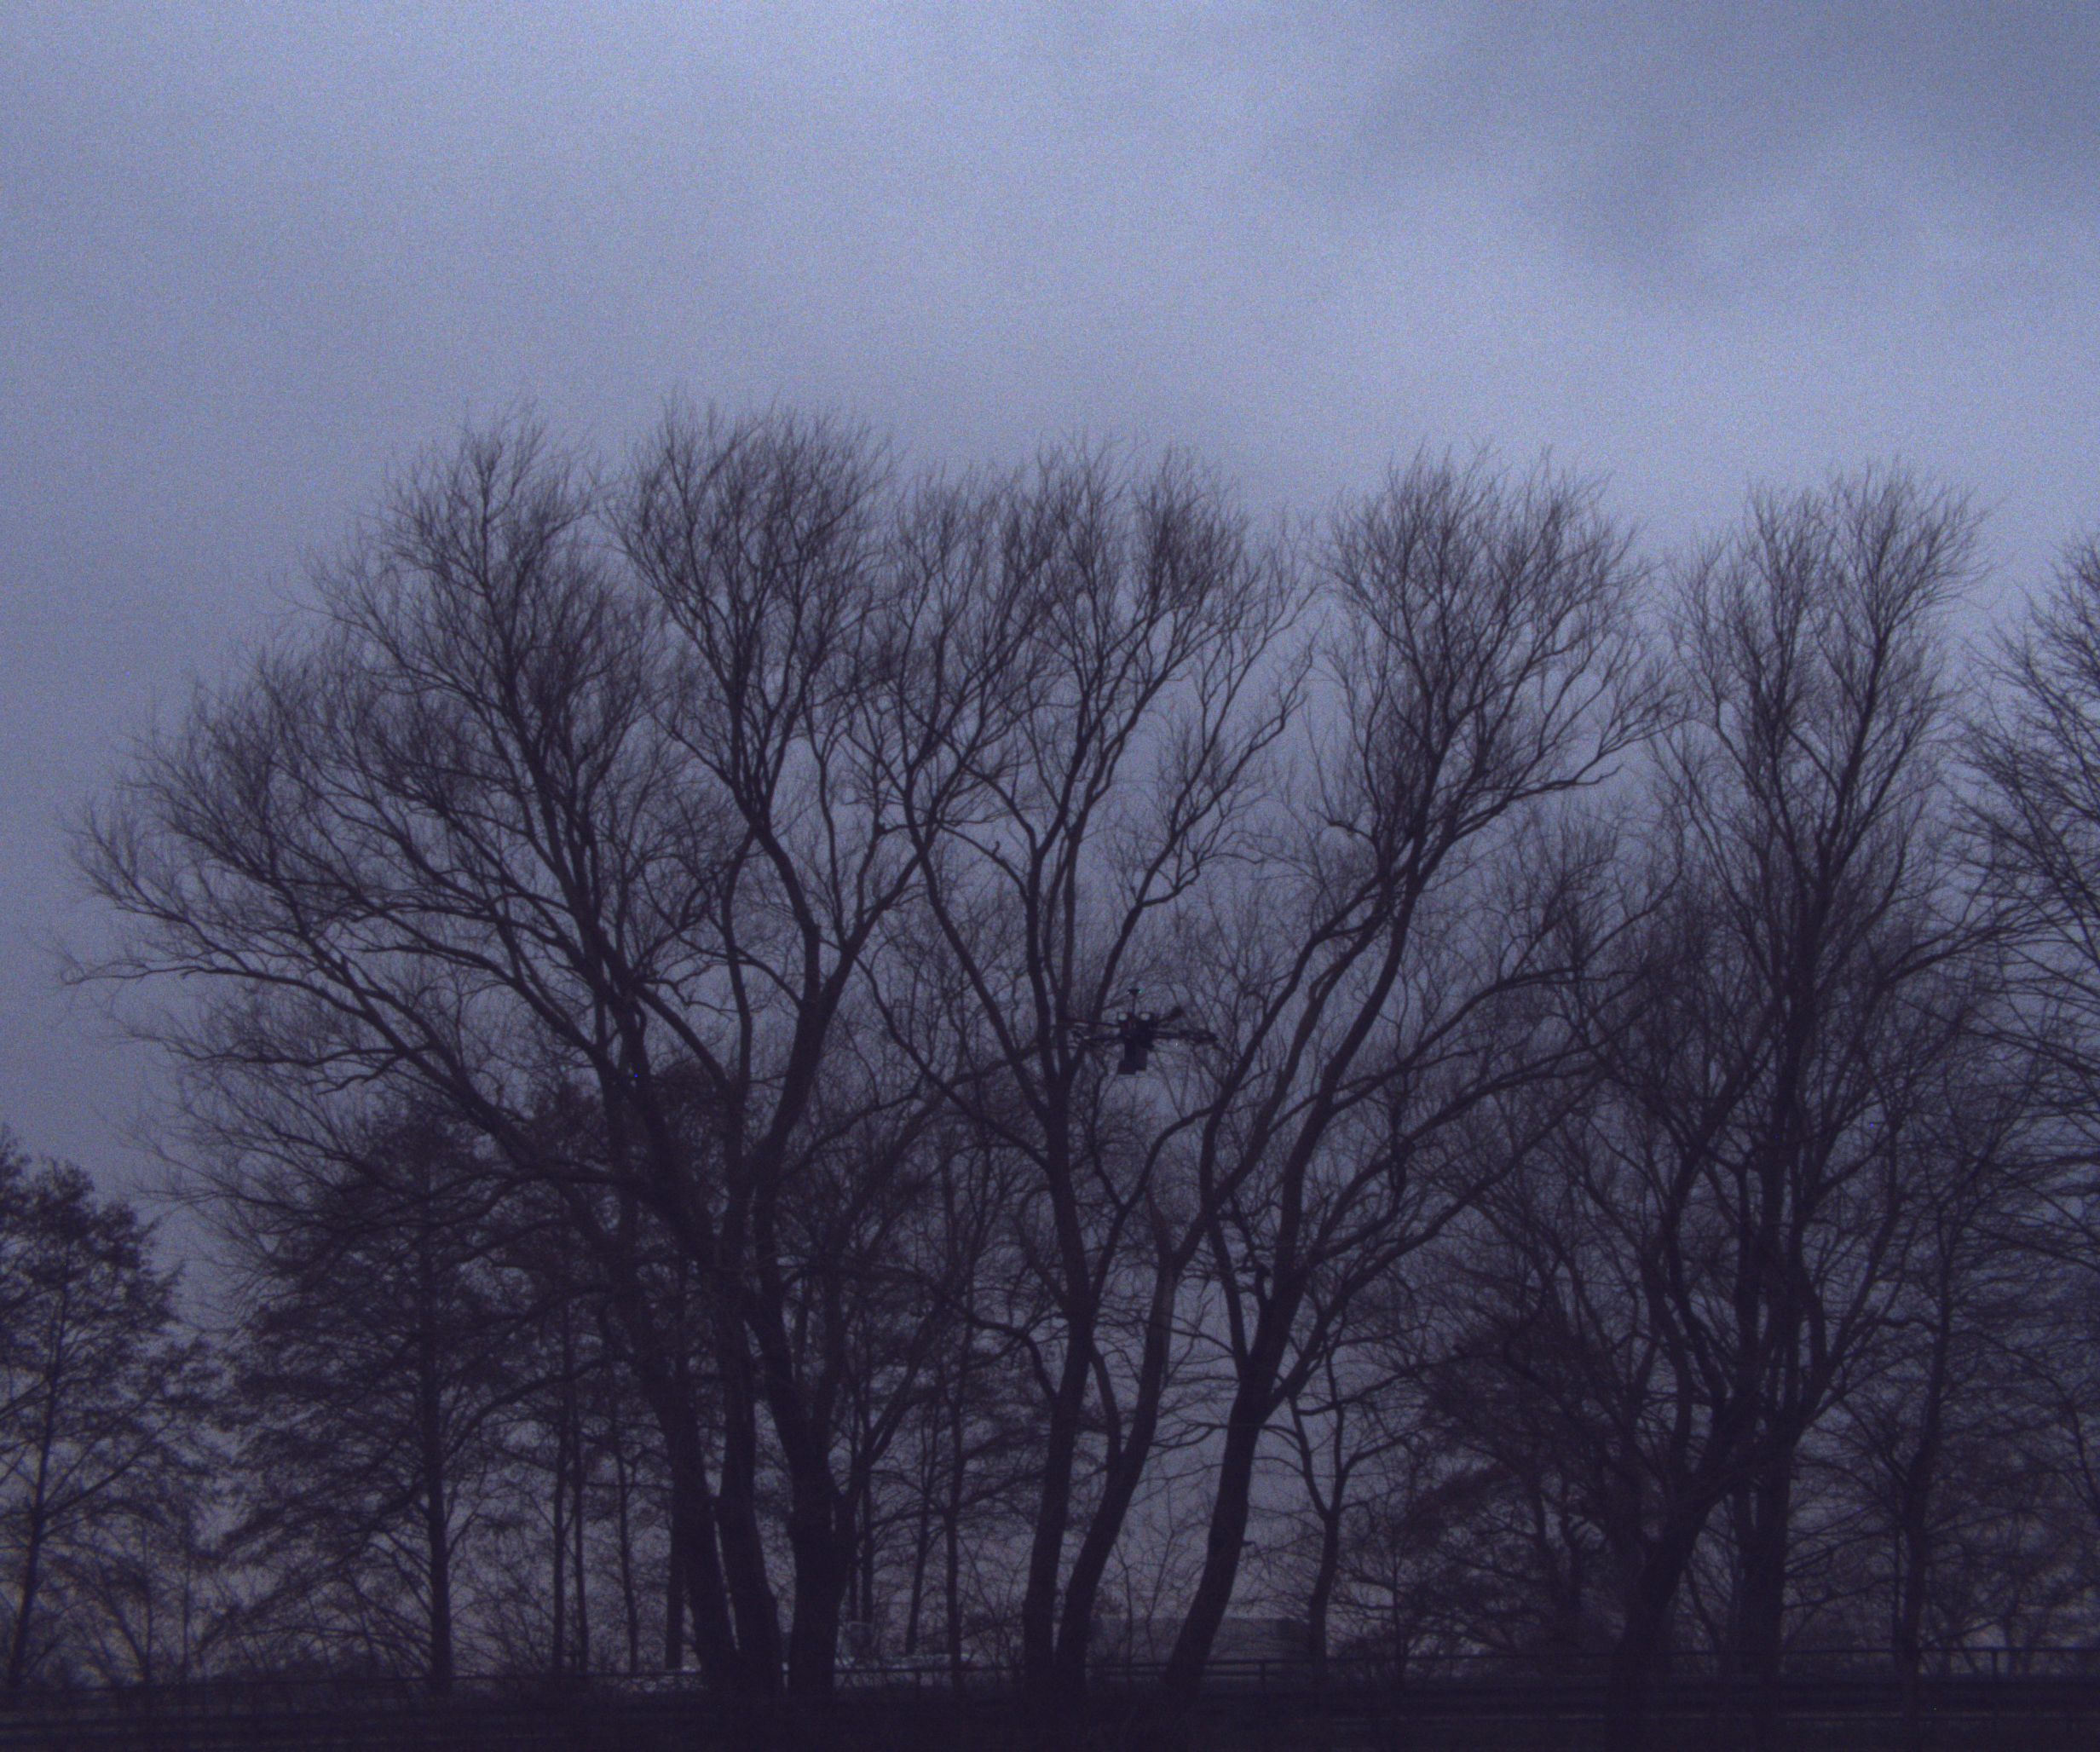Drohne: (994, 934, 1275, 1102)
